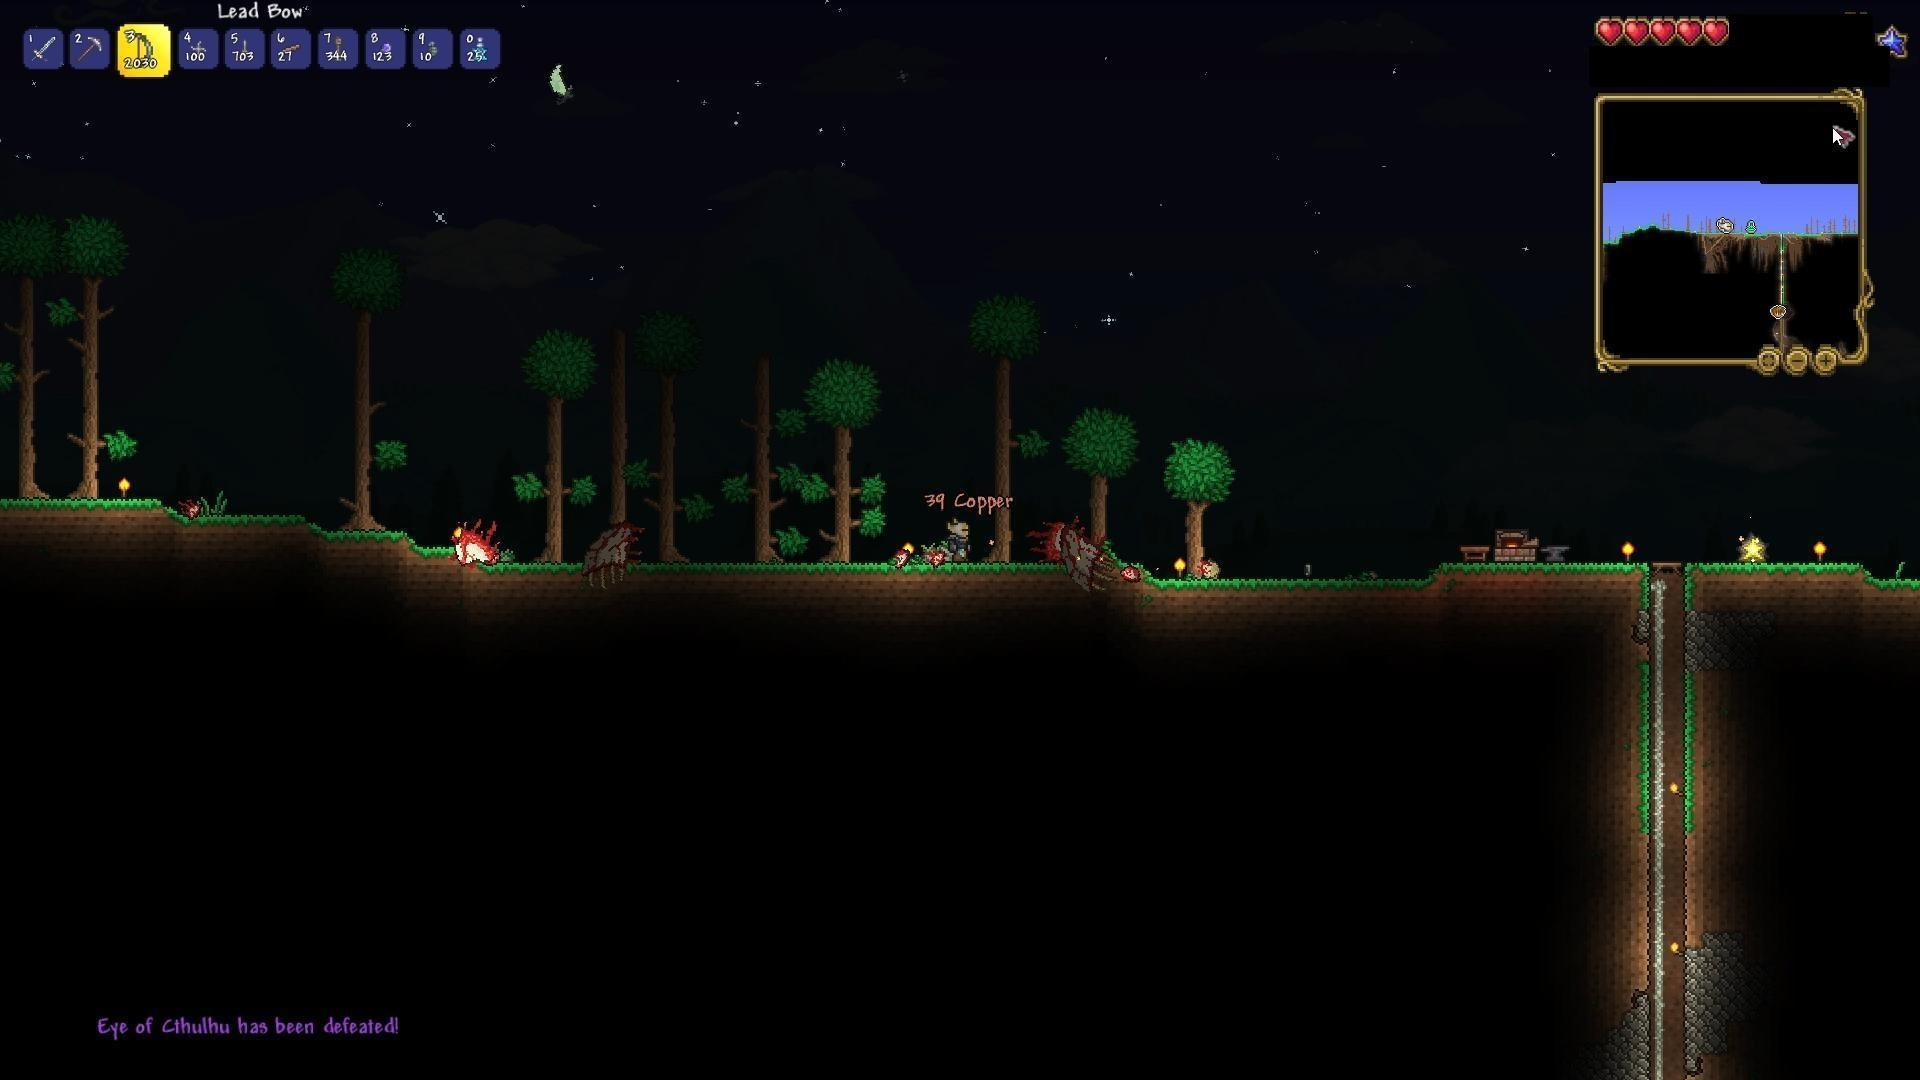dirt: (491, 553, 1125, 589), (0, 491, 335, 560), (1130, 564, 1435, 625), (1685, 556, 1920, 612), (1422, 555, 1654, 607), (1629, 640, 1656, 986), (322, 524, 467, 571)
heart: (1702, 17, 1733, 51), (1593, 16, 1626, 46), (1676, 15, 1704, 50), (1650, 16, 1676, 49), (1625, 15, 1651, 44)
stone: (1611, 985, 1659, 1068), (1684, 942, 1712, 1080)
tree: (517, 315, 607, 572), (69, 210, 141, 508), (818, 352, 890, 564), (977, 285, 1030, 560), (1069, 406, 1139, 576), (1158, 443, 1225, 568)
